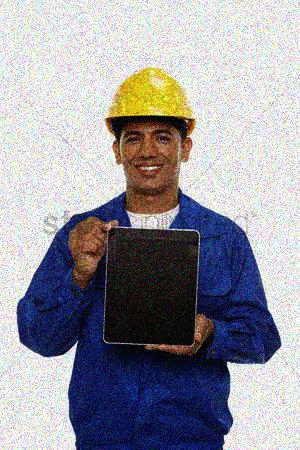helmet: (100, 66, 199, 195)
